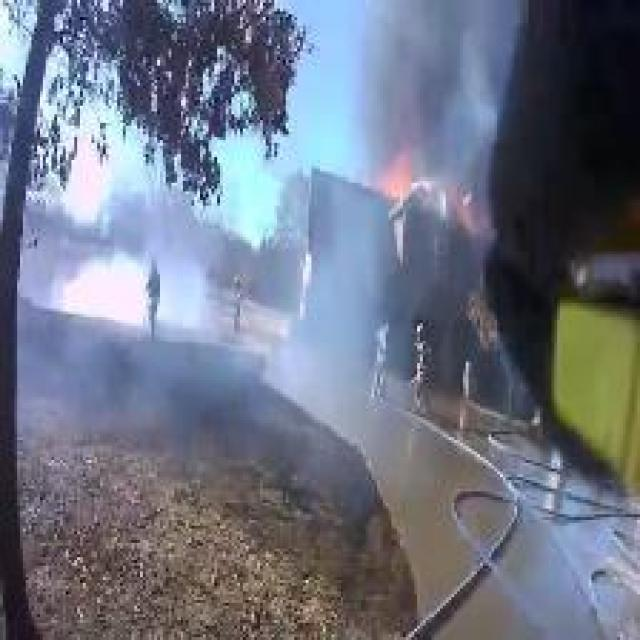smoke: (357, 1, 494, 194)
